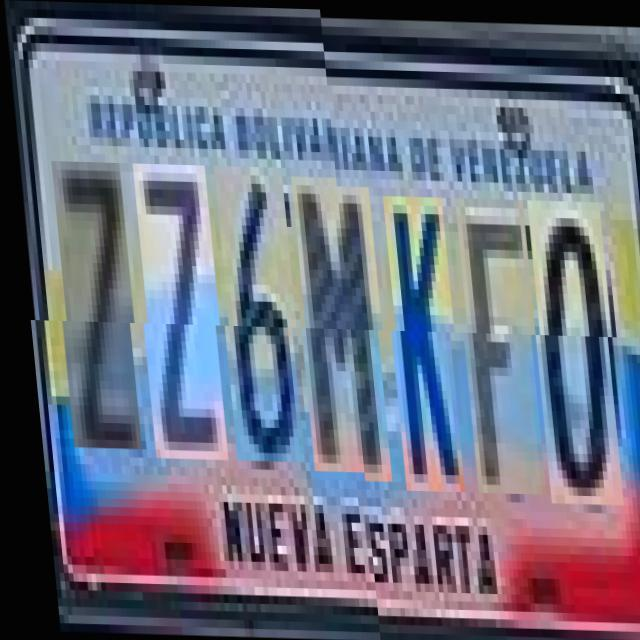6: (211, 173, 301, 470)
F: (451, 196, 541, 492)
K: (379, 193, 460, 490)
M: (288, 183, 387, 480)
O: (524, 197, 618, 502)
Z: (130, 172, 224, 468), (49, 169, 138, 457)
